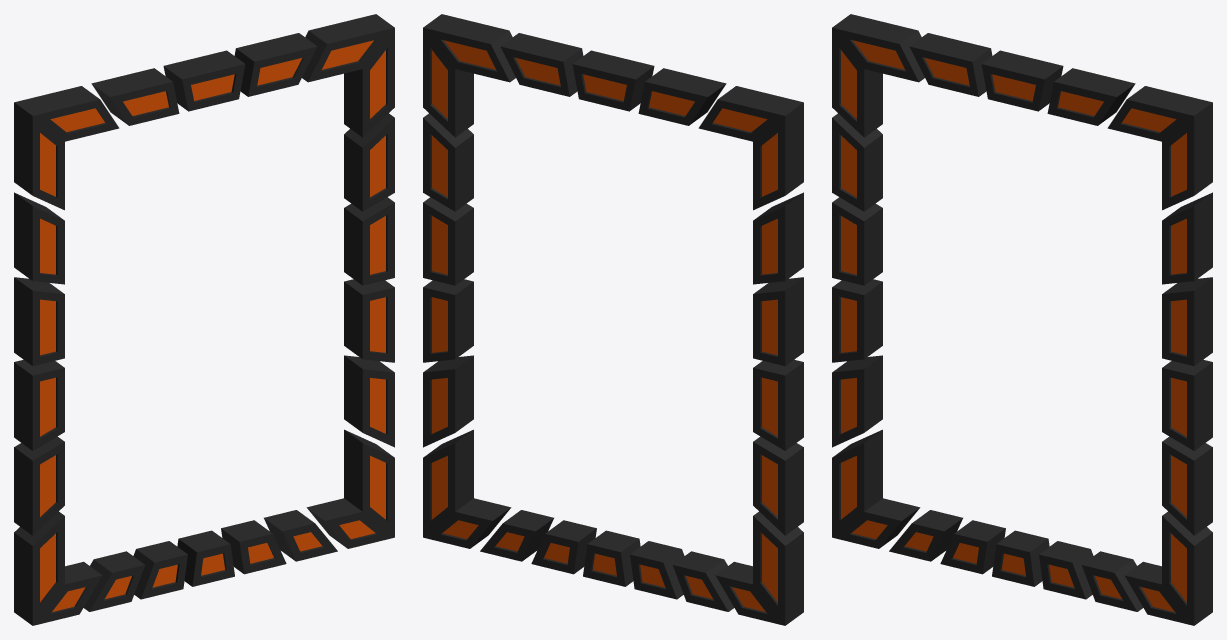
File: P_PortalDoorV2.fbx
3 renders of one model, left to right at view 1: azimuth 30°, elevation 25°; view 2: azimuth 150°, elevation 25°; view 3: azimuth 330°, elevation 25°, orthographic.
Visible parts, largest first — view 1: P_DoorPortal_V2; view 2: P_DoorPortal_V2; view 3: P_DoorPortal_V2.
Part boxes in pixels (x1,y1,x2,y2): P_DoorPortal_V2: (14,14,394,625); P_DoorPortal_V2: (423,14,803,625); P_DoorPortal_V2: (832,14,1212,625).
Size of the model in its own units: 224 by 301 by 19.91.
